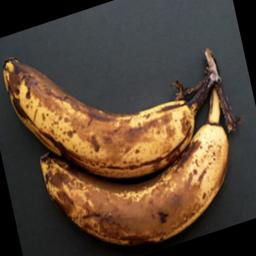Banana Rotten: (2, 41, 236, 247)
